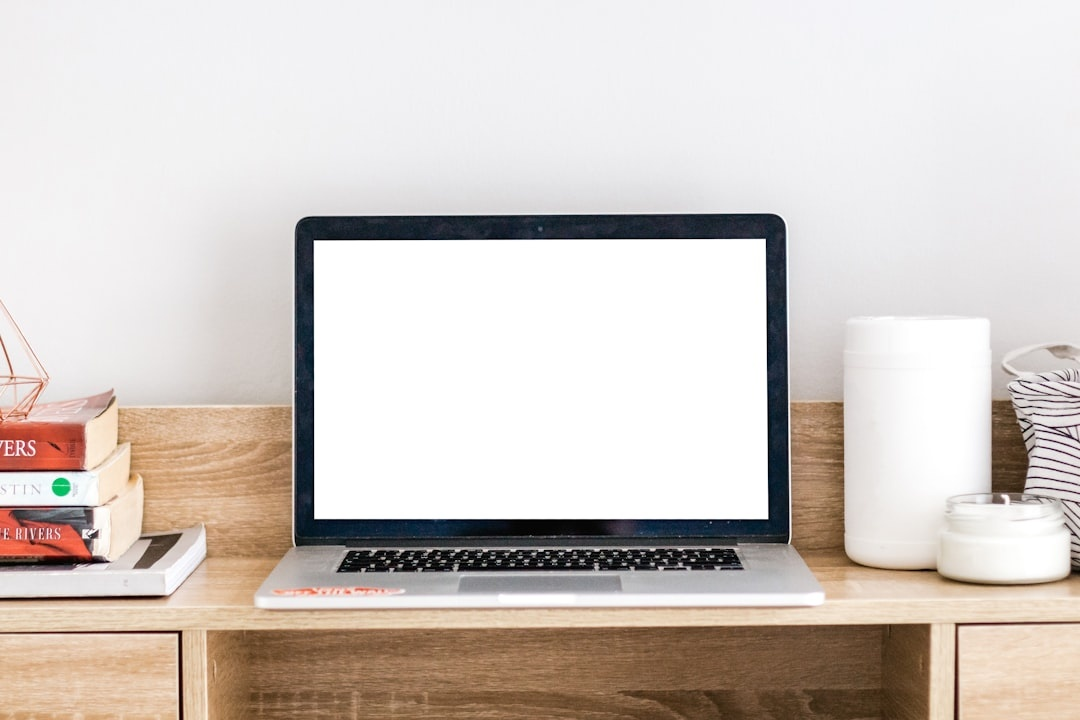laptop: (246, 189, 839, 622)
